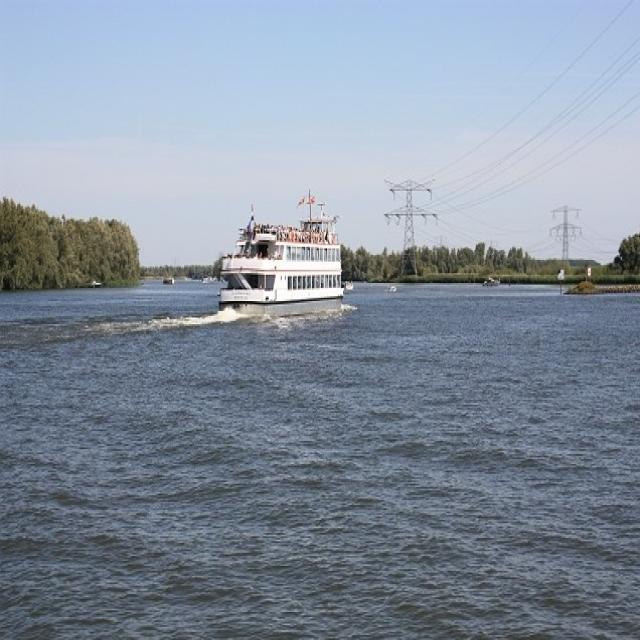houseboat: (208, 203, 355, 309)
